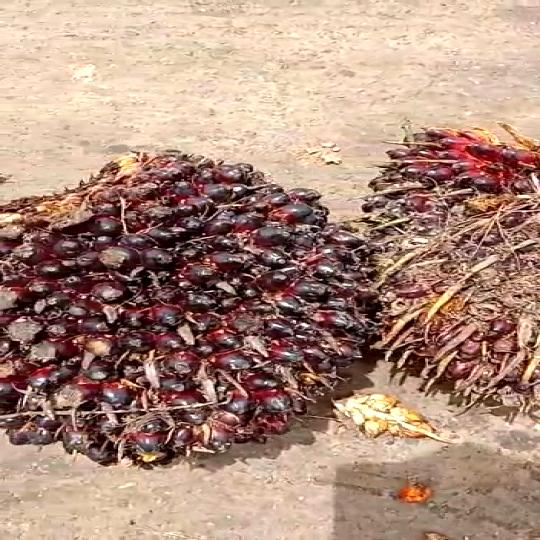kurang masak: (0, 137, 362, 472), (368, 118, 540, 412)
